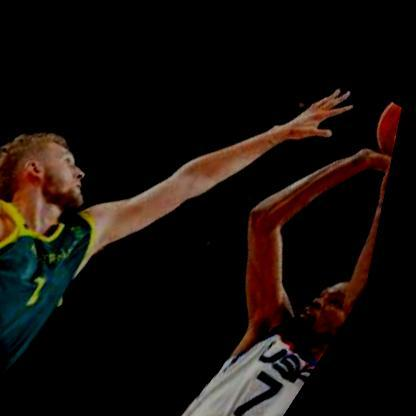basketball: (359, 91, 406, 172)
